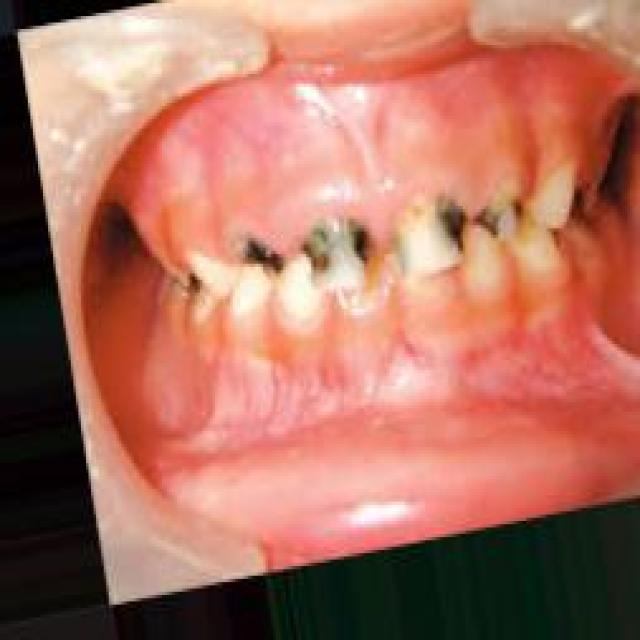caries: (405, 182, 466, 279), (293, 209, 348, 292), (481, 158, 527, 248), (169, 240, 214, 330), (342, 197, 389, 279), (230, 223, 285, 281)
